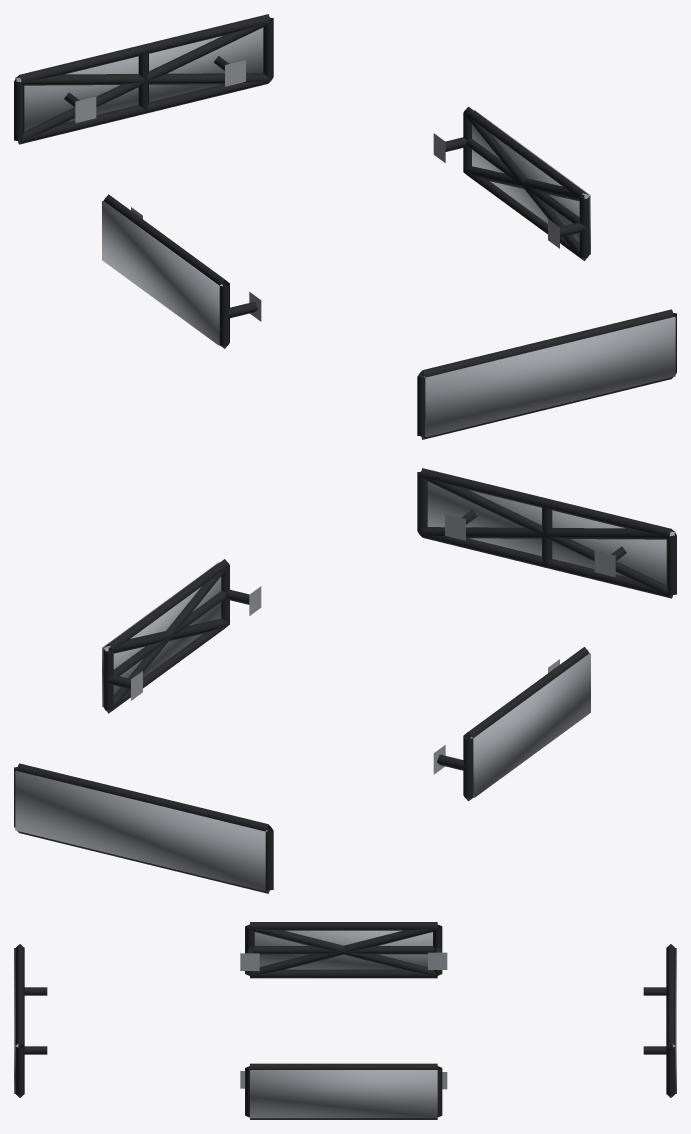
Rendered from kosame_seiva_protecao.glb.
3 renders of one model, top to bottom at view 1: azimuth 30°, elevation 25°; view 2: azimuth 150°, elevation 25°; view 3: azimuth 270°, elevation 25°, orthographic. The views are drawn at different scales.
Parts seen in each view (by area): view 1: Protection_front_Level3_Details, Protection_rear_Level1_Details, Protection_left_Level3_Details, Protection_rear_Level3_Details, Protection_rear_Level2_Details, Protection_right_Level1_Details, Protection_front_Level1_Details, Protection_right_Level2_Details, Protection_right_Level3_Details, Protection_left_Level1_Details; view 2: Protection_rear_Level3_Details, Protection_front_Level1_Details, Protection_left_Level3_Details, Protection_front_Level3_Details, Protection_front_Level2_Details, Protection_right_Level1_Details, Protection_rear_Level1_Details, Protection_right_Level2_Details, Protection_right_Level3_Details, Protection_left_Level1_Details; view 3: Protection_right_Level3_Details, Protection_left_Level1_Details, Protection_left_Level2_Details, Protection_left_Level3_Details, Protection_right_Level1_Details, Protection_rear_Level1_Details, Protection_front_Level1_Details.
Part boxes in pixels (<box>): Protection_front_Level3_Details: <box>423,317,675,437</box>; Protection_rear_Level1_Details: <box>14,14,273,144</box>; Protection_left_Level3_Details: <box>102,201,222,345</box>; Protection_rear_Level3_Details: <box>15,27,263,130</box>; Protection_rear_Level2_Details: <box>16,21,270,143</box>; Protection_right_Level1_Details: <box>433,106,589,260</box>; Protection_front_Level1_Details: <box>417,309,676,439</box>; Protection_right_Level2_Details: <box>463,114,588,260</box>; Protection_right_Level3_Details: <box>472,110,590,254</box>; Protection_left_Level1_Details: <box>103,194,261,348</box>; Protection_rear_Level3_Details: <box>15,771,267,891</box>; Protection_front_Level1_Details: <box>417,468,676,598</box>; Protection_left_Level3_Details: <box>470,653,590,797</box>; Protection_front_Level3_Details: <box>427,481,675,584</box>; Protection_front_Level2_Details: <box>420,475,674,597</box>; Protection_right_Level1_Details: <box>103,559,261,713</box>; Protection_rear_Level1_Details: <box>14,763,273,893</box>; Protection_right_Level2_Details: <box>104,566,229,712</box>; Protection_right_Level3_Details: <box>102,562,221,706</box>; Protection_left_Level1_Details: <box>433,647,589,801</box>; Protection_right_Level3_Details: <box>250,1070,437,1118</box>; Protection_left_Level1_Details: <box>240,922,447,978</box>; Protection_left_Level2_Details: <box>249,925,438,975</box>; Protection_left_Level3_Details: <box>254,930,432,969</box>; Protection_right_Level1_Details: <box>240,1063,447,1119</box>; Protection_rear_Level1_Details: <box>643,944,675,1097</box>; Protection_front_Level1_Details: <box>15,944,47,1097</box>.
Bounding box in the file's own units: 1.98 × 0.354 × 3.78.
Materials: 1 (1 with a texture image).
